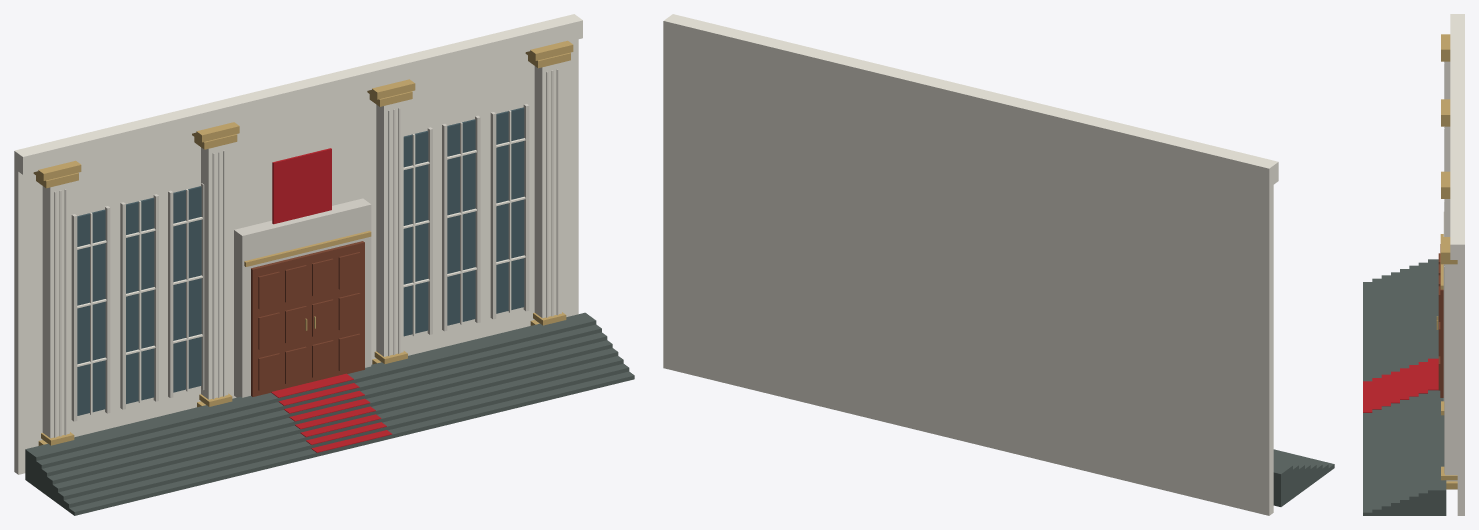
File: parliament-entry.glb
The picture shows the model from 3 angles, left to right: view 1: azimuth 30°, elevation 25°; view 2: azimuth 150°, elevation 25°; view 3: azimuth 270°, elevation 25°; orthographic projection. The views are drawn at different scales.
Parts seen in each view (by area): view 1: parliament-entry-marble, parliament-entry-iron, parliament-entry-glass, parliament-entry-stone, parliament-entry-wood, parliament-entry-carpet, parliament-entry-gold; view 2: parliament-entry-marble, parliament-entry-iron; view 3: parliament-entry-iron, parliament-entry-marble, parliament-entry-carpet, parliament-entry-gold, parliament-entry-wood, parliament-entry-stone.
Part boxes in pixels (bbox=[...]): parliament-entry-marble: bbox=[14, 14, 582, 474]; parliament-entry-iron: bbox=[25, 312, 634, 515]; parliament-entry-glass: bbox=[77, 107, 524, 415]; parliament-entry-stone: bbox=[54, 69, 558, 437]; parliament-entry-wood: bbox=[251, 241, 364, 396]; parliament-entry-carpet: bbox=[271, 148, 392, 452]; parliament-entry-gold: bbox=[33, 40, 573, 445]; parliament-entry-marble: bbox=[663, 14, 1278, 515]; parliament-entry-iron: bbox=[1273, 449, 1334, 506]; parliament-entry-iron: bbox=[1363, 259, 1446, 515]; parliament-entry-marble: bbox=[1445, 14, 1464, 515]; parliament-entry-carpet: bbox=[1363, 358, 1438, 412]; parliament-entry-gold: bbox=[1436, 34, 1457, 489]; parliament-entry-wood: bbox=[1438, 244, 1443, 397]; parliament-entry-stone: bbox=[1443, 61, 1444, 473].
Size of the model in its own units: 23 by 12.6 by 4.29.
